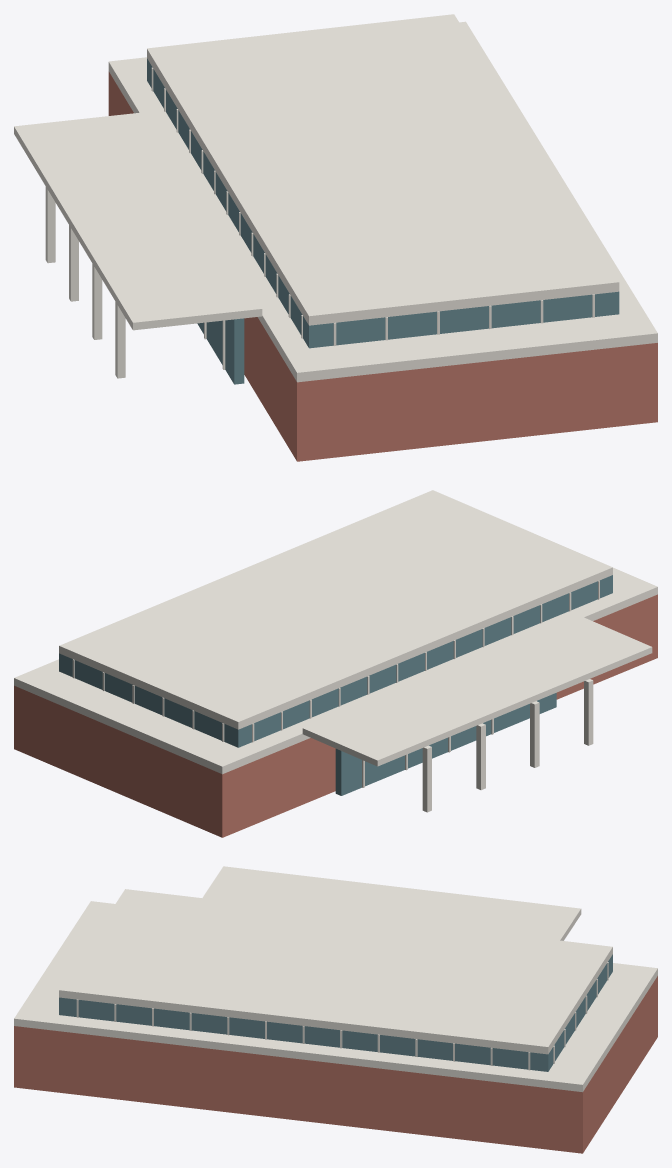
The model's file is fong.glb.
3 renders of one model, top to bottom at view 1: azimuth 30°, elevation 25°; view 2: azimuth 150°, elevation 25°; view 3: azimuth 270°, elevation 25°, orthographic. The views are drawn at different scales.
Parts seen in each view (by area): view 1: FSC_roof, FSC_base, FSC_canopy, FSC_fascia, FSC_clerestory, FSC_lobby, FSC_col_3, FSC_col_0, FSC_col_1, FSC_col_2; view 2: FSC_roof, FSC_base, FSC_canopy, FSC_fascia, FSC_clerestory, FSC_lobby, FSC_col_2, FSC_col_1, FSC_col_3, FSC_col_0; view 3: FSC_roof, FSC_base, FSC_fascia, FSC_canopy, FSC_clerestory.
Boxes of the visible parts, x1=… form: FSC_roof: x1=147, y1=14, x2=619, y2=325; FSC_base: x1=108, y1=71, x2=657, y2=461; FSC_canopy: x1=14, y1=112, x2=262, y2=330; FSC_fascia: x1=108, y1=21, x2=657, y2=382; FSC_clerestory: x1=147, y1=58, x2=619, y2=348; FSC_lobby: x1=197, y1=318, x2=244, y2=384; FSC_col_3: x1=45, y1=186, x2=55, y2=263; FSC_col_0: x1=115, y1=302, x2=125, y2=378; FSC_col_1: x1=92, y1=264, x2=102, y2=339; FSC_col_2: x1=69, y1=225, x2=78, y2=301; FSC_roof: x1=59, y1=490, x2=612, y2=729; FSC_base: x1=14, y1=594, x2=657, y2=837; FSC_canopy: x1=302, y1=614, x2=652, y2=766; FSC_fascia: x1=14, y1=567, x2=657, y2=774; FSC_clerestory: x1=59, y1=575, x2=612, y2=747; FSC_lobby: x1=335, y1=693, x2=556, y2=795; FSC_col_2: x1=476, y1=723, x2=485, y2=790; FSC_col_1: x1=530, y1=701, x2=539, y2=767; FSC_col_3: x1=422, y1=745, x2=431, y2=812; FSC_col_0: x1=584, y1=679, x2=593, y2=745; FSC_roof: x1=59, y1=889, x2=612, y2=1054; FSC_base: x1=14, y1=976, x2=657, y2=1153; FSC_fascia: x1=14, y1=901, x2=657, y2=1092; FSC_canopy: x1=202, y1=866, x2=581, y2=940; FSC_clerestory: x1=59, y1=954, x2=612, y2=1071.
Size of the model in its own units: 31.27 by 6.4 by 39.86.
